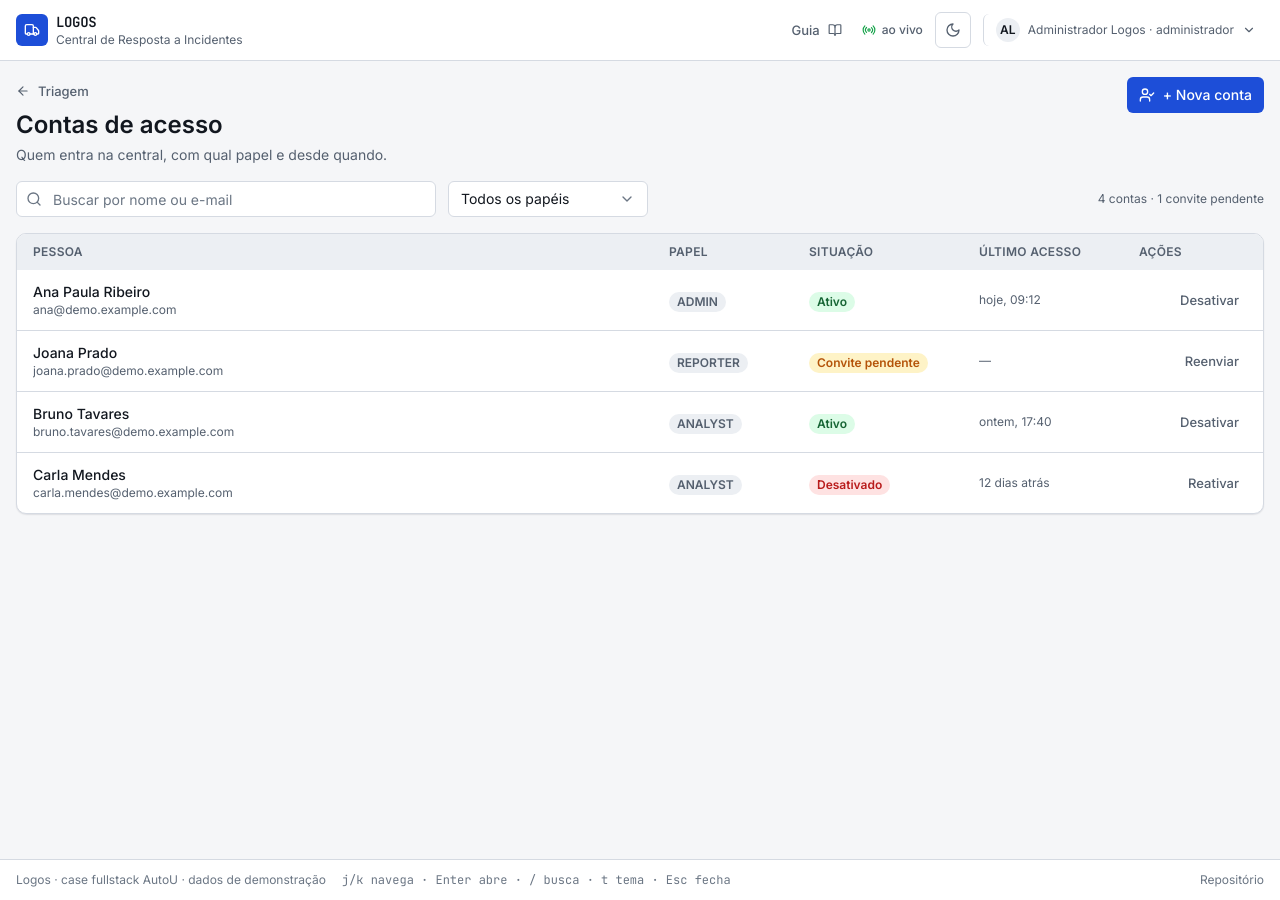
Test: AccountsScreen — nova conta › mostra o 422 da API no campo que ela apontou
This screenshot has width=1280, height=900.
Click the button "+ Nova conta".
click(1195, 95)  # box [1127, 77, 1264, 113]
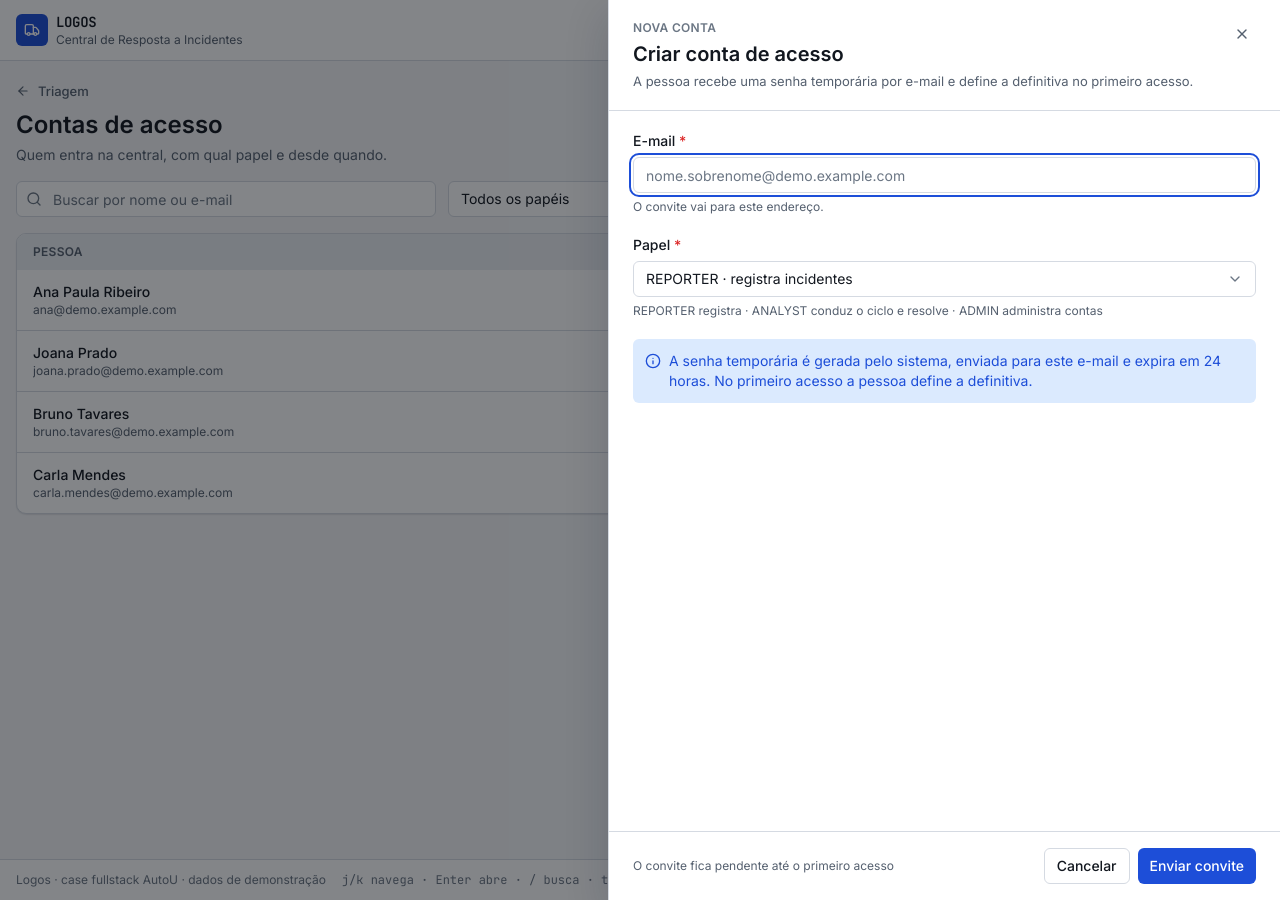
Type "novo.analista@parceiro.com.br" into the field labelled "E-mail *".
click(944, 175); type("novo.analista@parceiro.com.br")  # box [633, 157, 1256, 193]
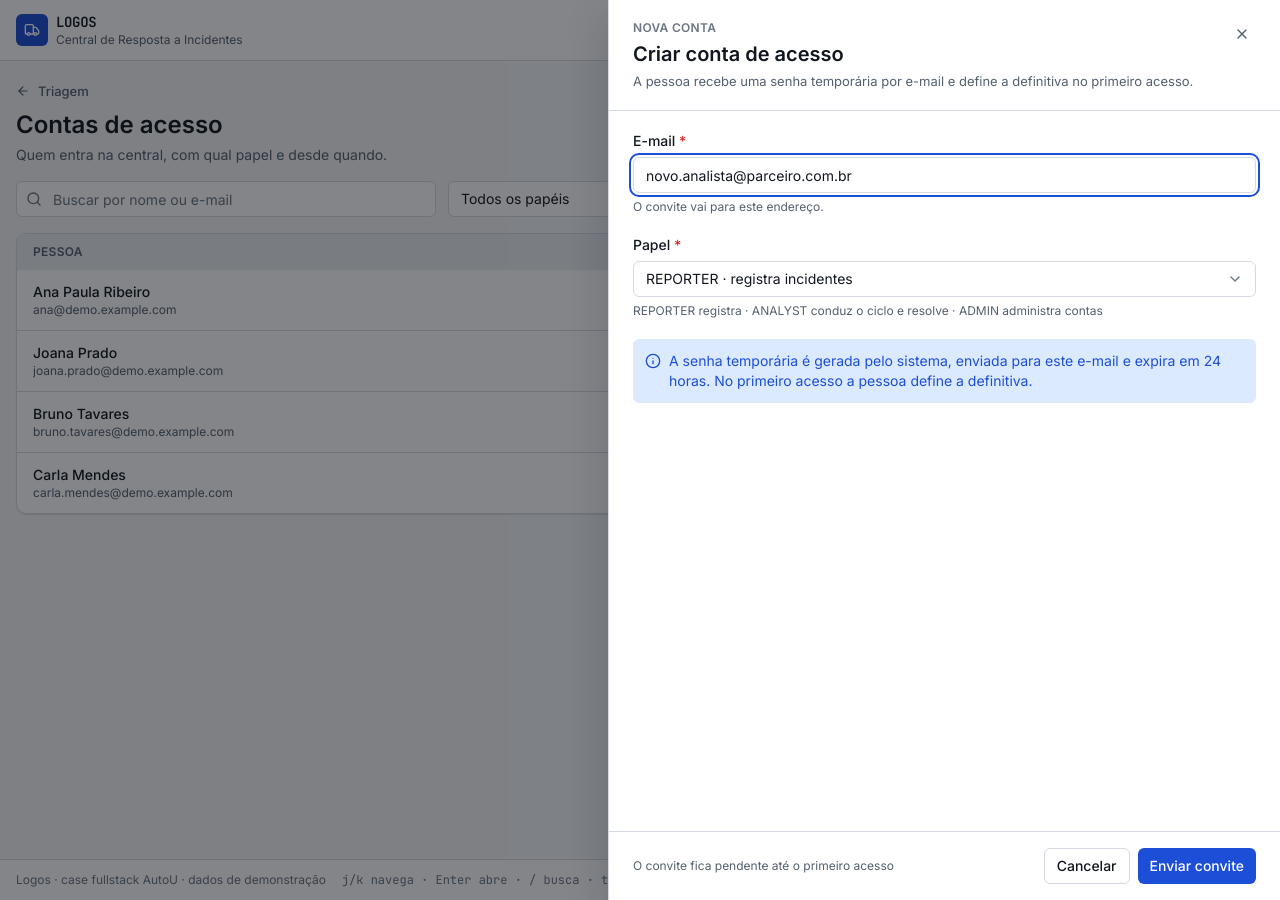
Click the button "Enviar convite".
click(1197, 866)  # box [1138, 848, 1256, 884]
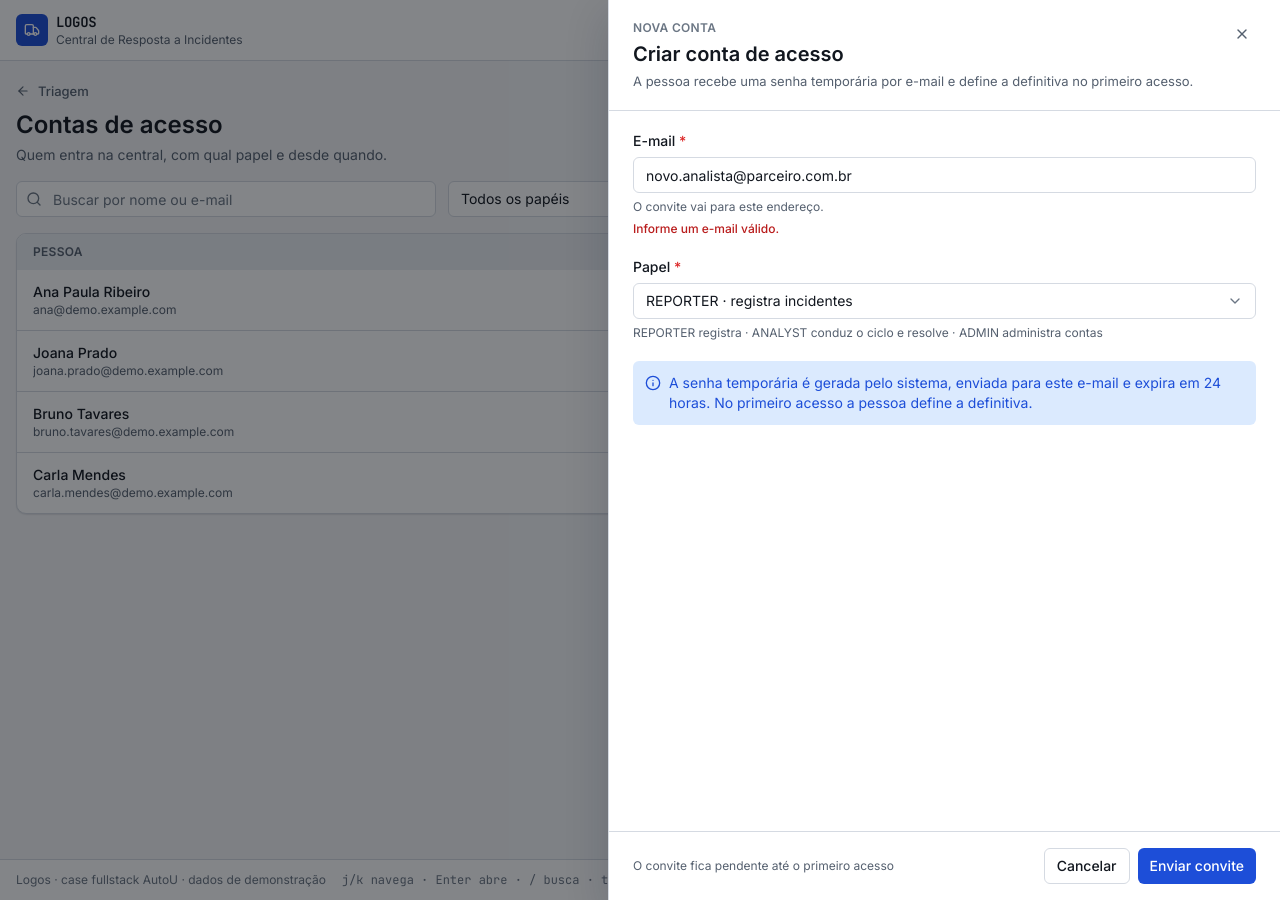
Check: the text "Informe um e-mail válido." is shown, box [633, 221, 779, 236]
